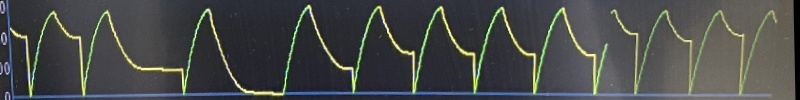leakage: (0, 0, 789, 100)
